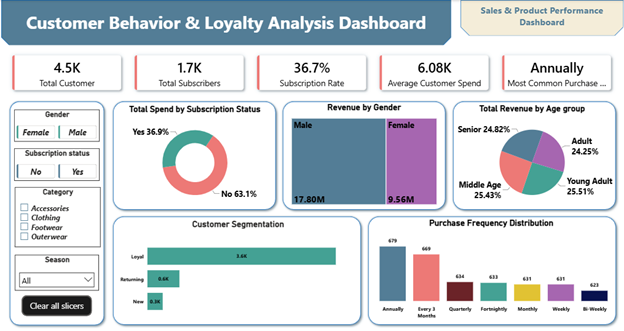

Layout of this report page (visuals, bound fields, positions):
{"tool":"powerbi","page":{"name":"BEHAVIOR & LOYALTY","canvas":[1500,800],"ordinal":1},"visuals":[{"type":"shape","box":[262.2,234,408.3,277.2],"z":3000},{"type":"shape","box":[14.9,234,244,554.4],"z":4000},{"type":"shape","box":[670.5,234,408.3,277.2],"z":5000},{"type":"shape","box":[1078.8,234,408.3,277.2],"z":6000},{"type":"shape","box":[262.2,511.2,612.4,277.2],"z":7000},{"type":"shape","box":[874.7,511.2,612.4,277.2],"z":8000},{"type":"donutChart","title":"Total Spend by Subscription Status","fields":{"Category":["public customer_data.subscription_status"],"Y":["Sum(public customer_data.purchase_amount_inr)"]},"box":[270.3,249.1,395.8,247.3],"z":9000},{"type":"advancedSlicerVisual","fields":{"Values":["public customer_data.gender"]},"box":[34.2,262.5,205.4,76.6],"z":13000},{"type":"advancedSlicerVisual","fields":{"Values":["public customer_data.subscription_status"]},"box":[34.2,355.4,205.4,78.3],"z":14000},{"type":"slicer","title":"Category","fields":{"Values":["public customer_data.category"]},"box":[34.9,448.1,205.8,144.4],"z":15000},{"type":"treemap","title":"Revenue by Gender","fields":{"Values":["public customer_data.Total Revenue"],"Group":["public customer_data.gender"]},"box":[695.4,245.6,358.5,250.6],"z":17000},{"type":"actionButton","box":[51.5,708.7,169.3,49.8],"z":18000},{"type":"shape","box":[3.3,0,1080.5,119.5],"z":18001},{"type":"shape","box":[1105.4,0,391.7,86.3],"z":18002},{"type":"cardVisual","fields":{"Data":["public customer_data.Total Customer","public customer_data.Total Subscribers","public customer_data.Subscription Rate","public customer_data.Average Customer Spend","public customer_data.Most Common Purchase Frequency"]},"box":[0,102.9,1500,142.7],"z":18003},{"type":"clusteredBarChart","title":"Customer Segmentation","fields":{"Category":["public customer_data.Customer Segment"],"Y":["CountNonNull(public customer_data.customer_id)"]},"box":[282.1,525.7,580,247.1],"z":18004},{"type":"pieChart","title":"Total Revenue by Age group","fields":{"Category":["public customer_data.age_group"],"Y":["public customer_data.Total Revenue"]},"box":[1083.8,247.3,388.4,249],"z":18006},{"type":"slicer","title":"Season","fields":{"Values":["public customer_data.season"]},"box":[34.9,610.8,202.5,86.3],"z":18007},{"type":"clusteredColumnChart","title":"Purchase Frequency Distribution","fields":{"Category":["public customer_data.frequency_of_purchases"],"Y":["Count(public customer_data.customer_id)"]},"box":[861.4,522.8,635.7,250.6],"z":18008}]}

Visuals, with their boxes in screenshot pixels (x1, y1, x2, y2), scaled from the page's 1500x800 canvas onto the 624x331 screenshot:
shape: 109 97 279 212
shape: 6 97 108 326
shape: 279 97 449 212
shape: 449 97 619 212
shape: 109 212 364 326
shape: 364 212 619 326
"Total Spend by Subscription Status" donutChart: 112 103 277 205
advancedSlicerVisual - public customer_data.gender: 14 109 100 140
advancedSlicerVisual - public customer_data.subscription_status: 14 147 100 179
"Category" slicer: 15 185 100 245
"Revenue by Gender" treemap: 289 102 438 205
actionButton: 21 293 92 314
shape: 1 0 451 49
shape: 460 0 623 36
cardVisual - public customer_data.Total Customer x public customer_data.Total Subscribers: 0 43 623 102
"Customer Segmentation" clusteredBarChart: 117 218 359 320
"Total Revenue by Age group" pieChart: 451 102 612 205
"Season" slicer: 15 253 99 288
"Purchase Frequency Distribution" clusteredColumnChart: 358 216 623 320
